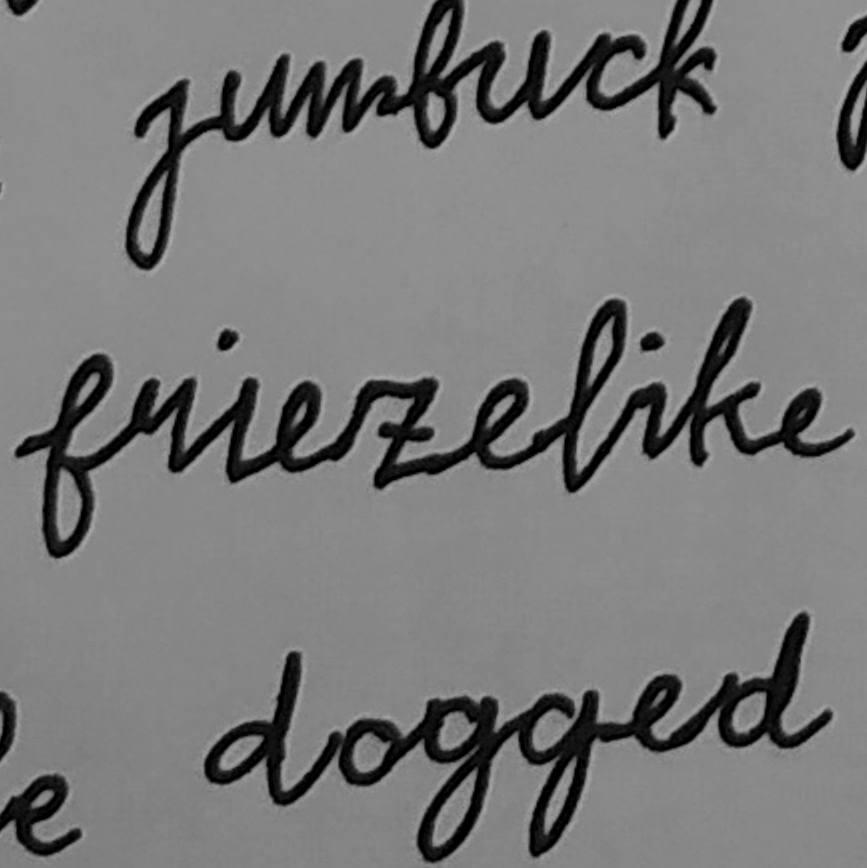e: (461, 372, 542, 478), (267, 373, 339, 483), (777, 383, 858, 463)
f: (32, 348, 117, 563)
i: (203, 322, 264, 492), (631, 328, 676, 465)
k: (683, 293, 767, 470)
l: (557, 292, 630, 497)
r: (125, 370, 200, 478)
z: (349, 368, 451, 494)
